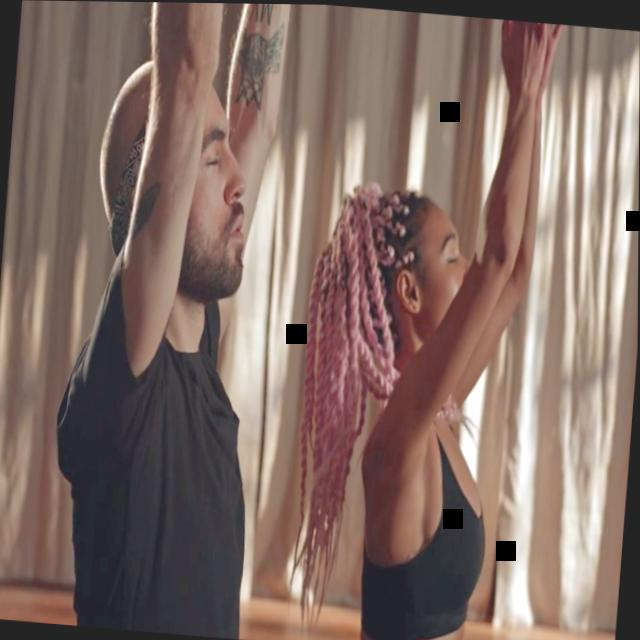NO-Mask: (178, 80, 258, 307), (410, 201, 474, 334)
